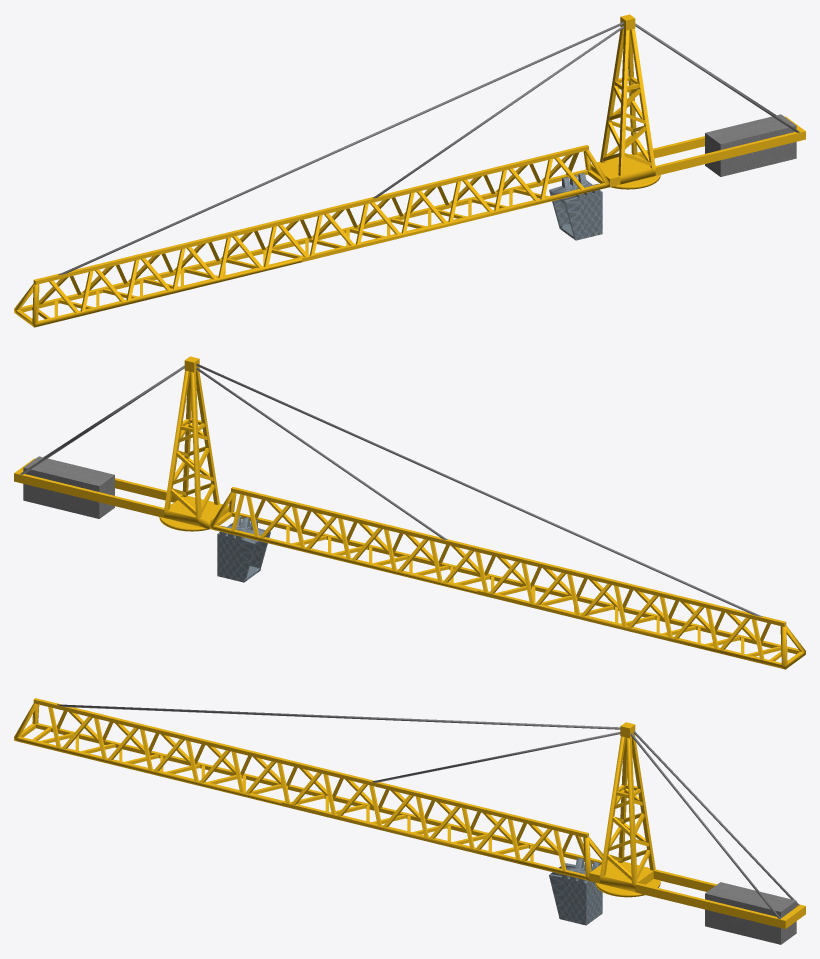
Rendered from oben5.obj.
3 views of the same model, one above another, from view 1: azimuth 30°, elevation 25°; view 2: azimuth 150°, elevation 25°; view 3: azimuth 330°, elevation 25° (orthographic).
Parts seen in each view (by area): view 1: Würfel.1_ID17; view 2: Würfel.1_ID17; view 3: Würfel.1_ID17.
Boxes of the visible parts, bbox=[...] form: Würfel.1_ID17: bbox=[14, 14, 805, 327]; Würfel.1_ID17: bbox=[14, 356, 805, 669]; Würfel.1_ID17: bbox=[14, 698, 805, 944].
Size of the model in its own units: 1.64 by 0.4102 by 0.12.
Materials: 3 (3 with a texture image).
